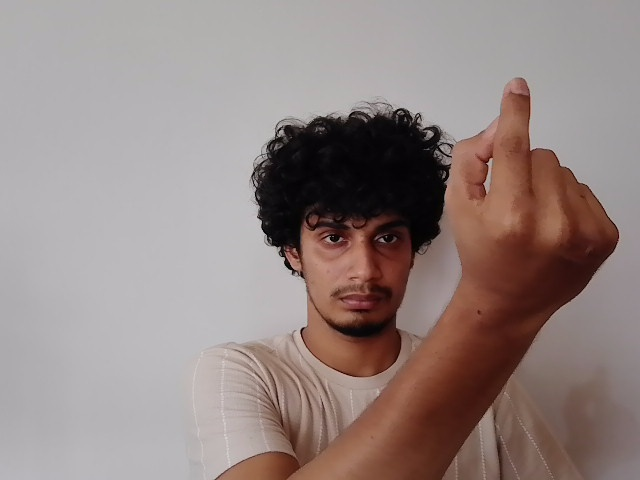just: (448, 73, 621, 288)
